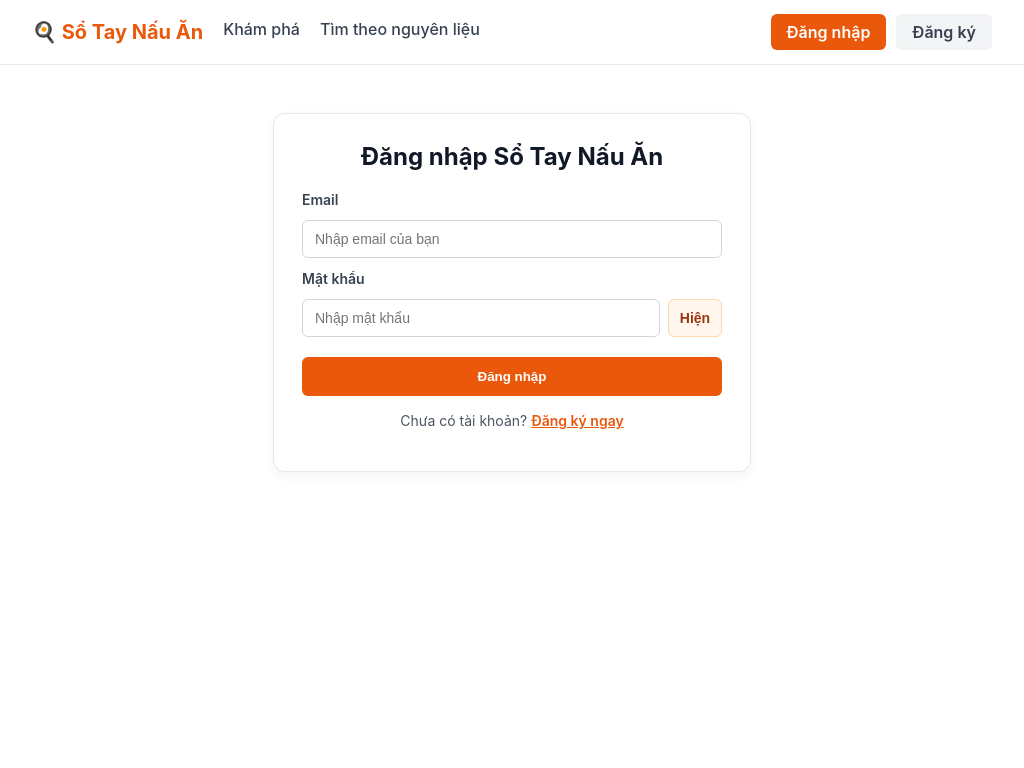
displays an invalid login error and keeps the login form available
In the field labelled "Email": (512, 239) [302,220,722,258], type "an@example.com"
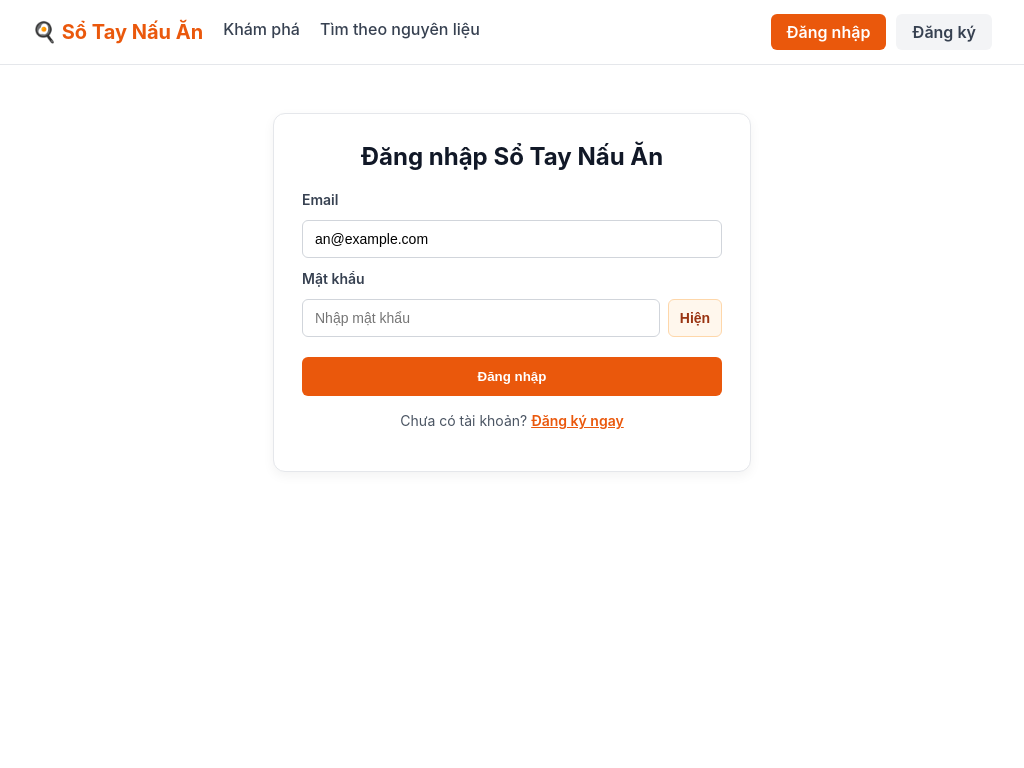
In the password field labelled "Mật khẩu": (481, 318) [302,299,660,337], type "WrongPass123"
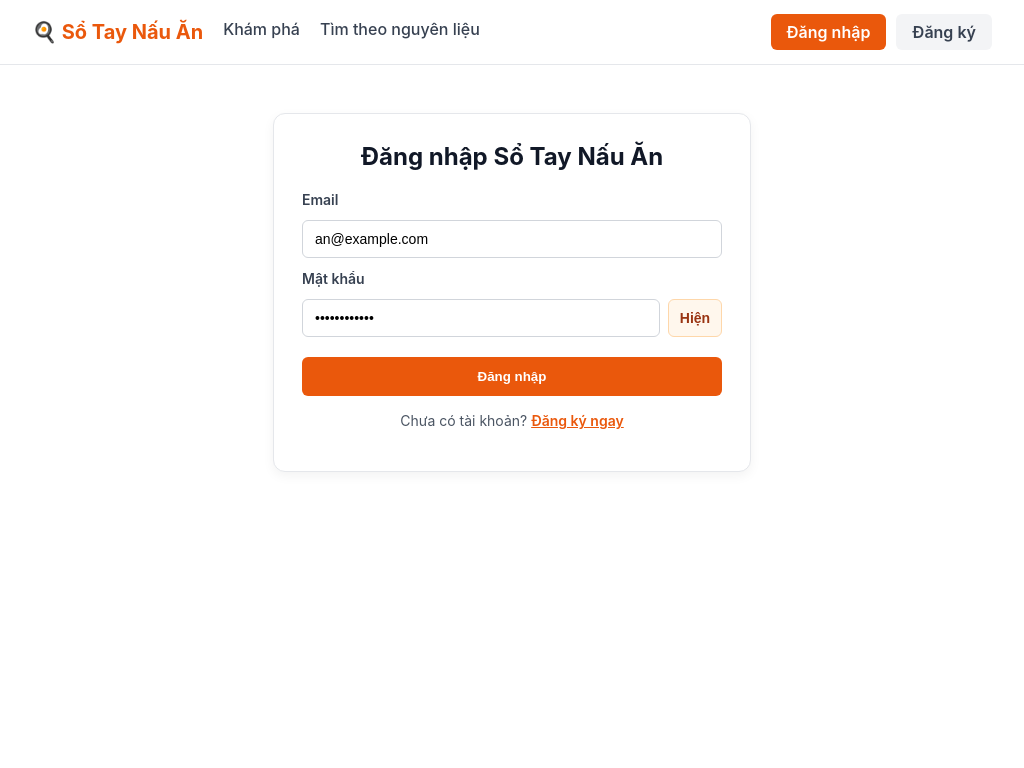
Click the button "Đăng nhập": (512, 376) [302,357,722,396]
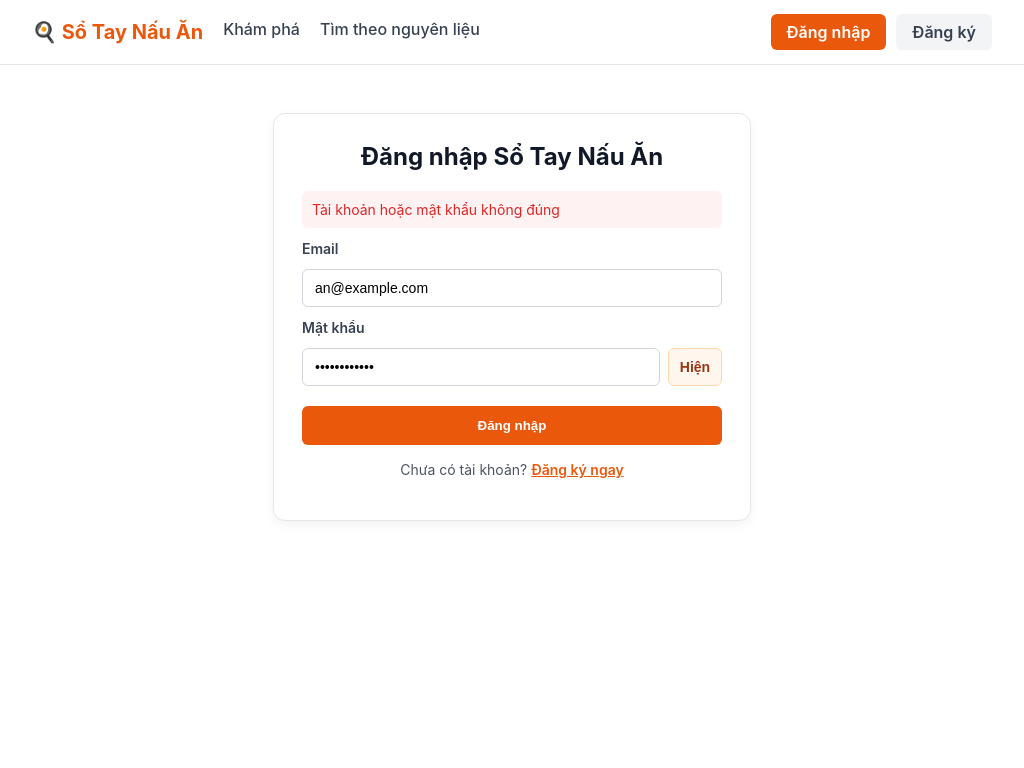
Expected: the button "Đăng nhập" is enabled, [302,406,722,445]
Result: the message reads "Tài khoản hoặc mật khẩu không đúng" at [312,201,560,218]
